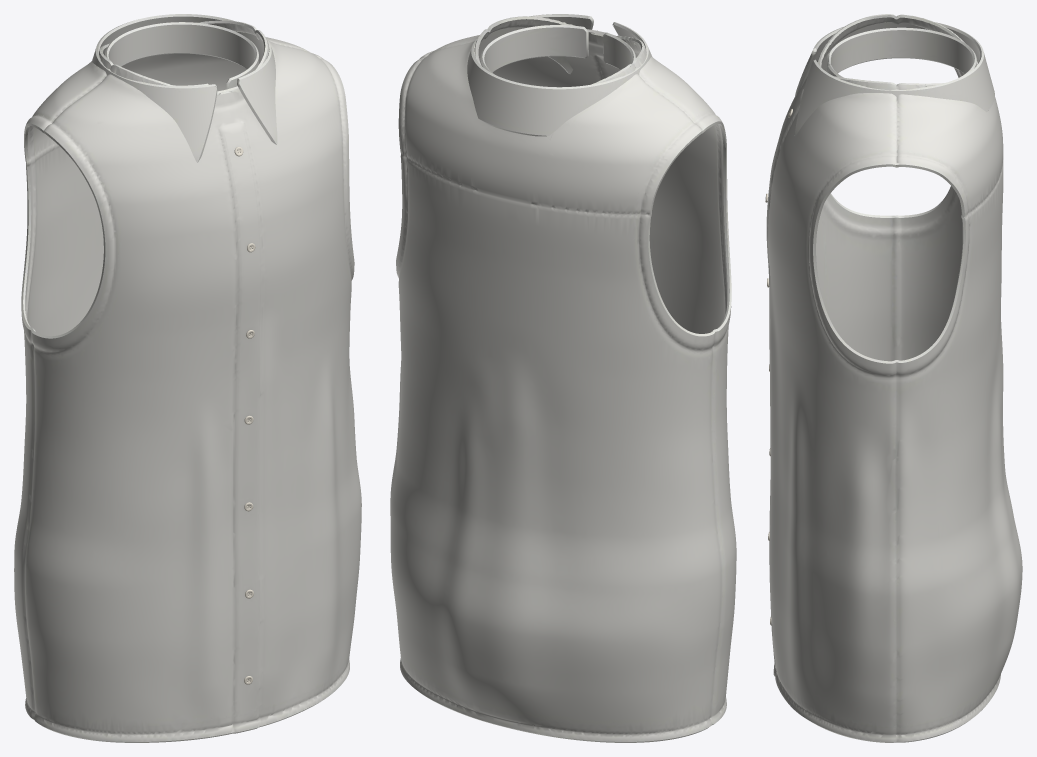
Rendered from 10_camisa_sin_mangas_pbr.glb.
3 renders of one model, left to right at view 1: azimuth 30°, elevation 25°; view 2: azimuth 150°, elevation 25°; view 3: azimuth 270°, elevation 25°, orthographic. The views are drawn at different scales.
Parts seen in each view (by area): view 1: Camiseta PBR; view 2: Camiseta PBR; view 3: Camiseta PBR.
Part boxes in pixels (x1,y1,x2,y2): Camiseta PBR: (14, 14, 361, 742); Camiseta PBR: (390, 14, 736, 742); Camiseta PBR: (766, 14, 1022, 742).
Bounding box in the file's own units: 0.4084 × 0.7689 × 0.287.
2 materials, 1 textured.
